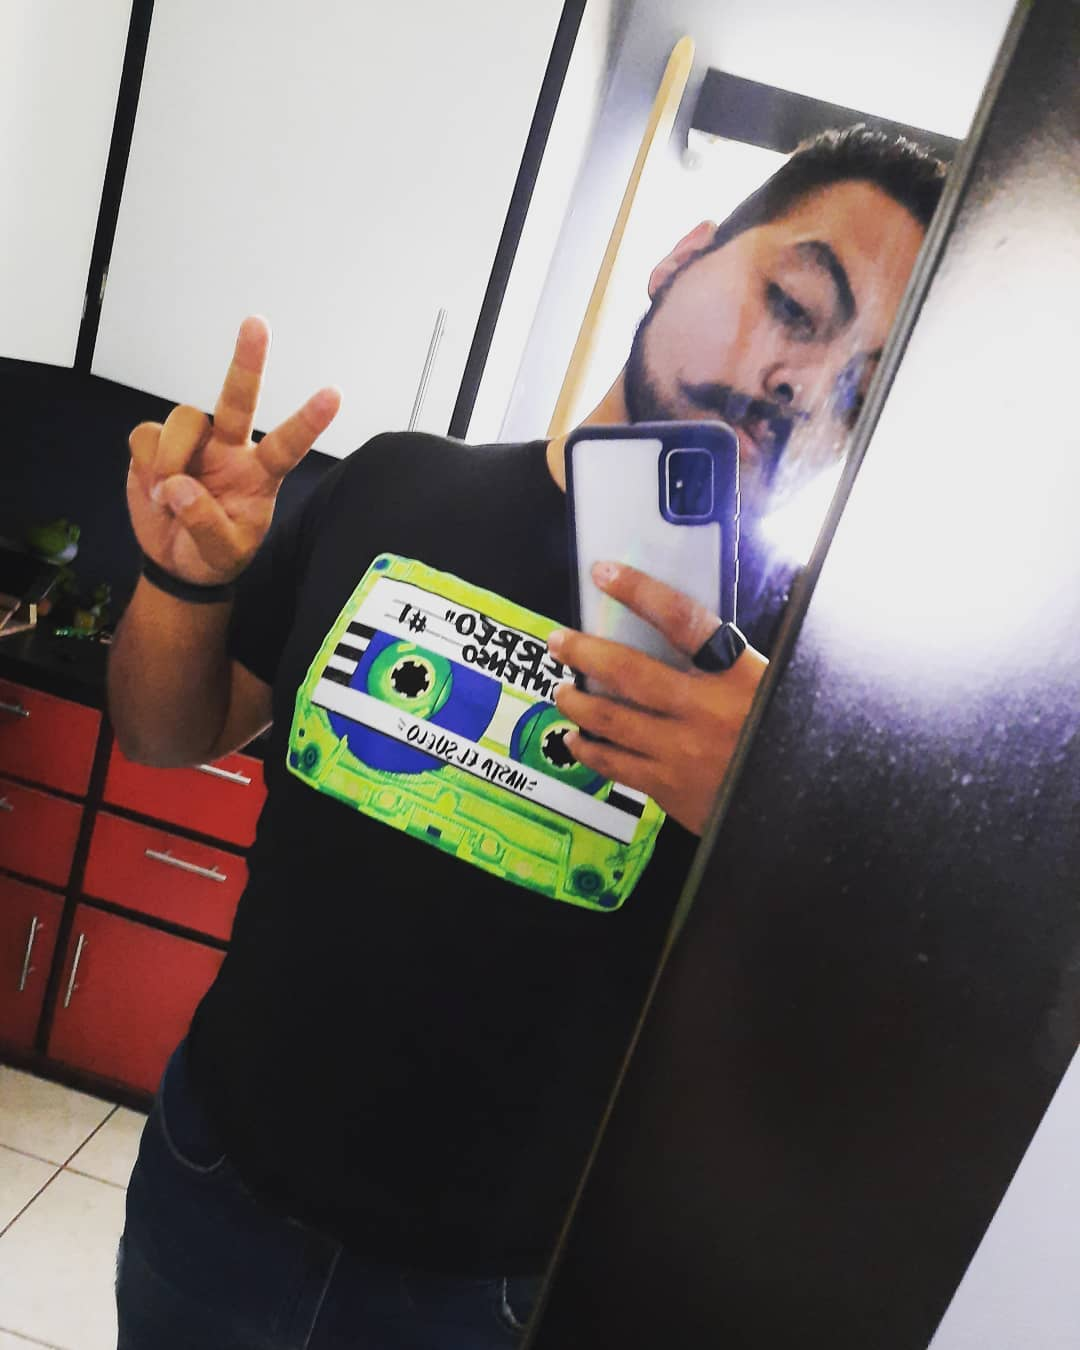Yoshi: (125, 60, 947, 1073)
